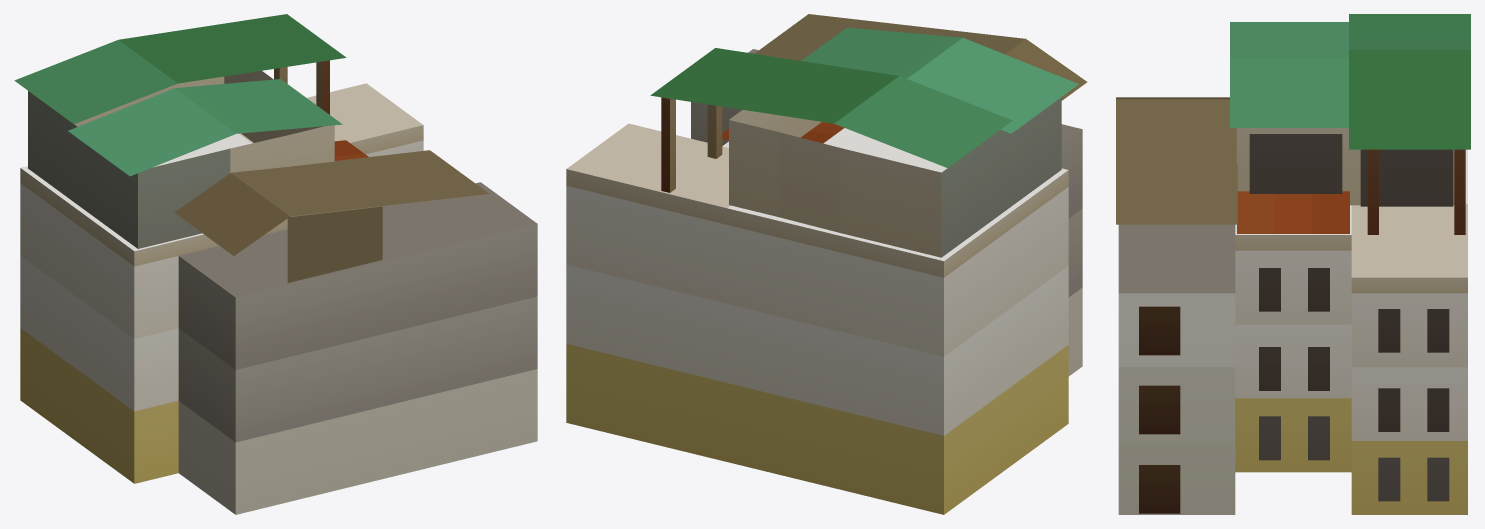
The model's file is SM_City_Building_06.fbx.
The picture shows the model from 3 angles, left to right: view 1: azimuth 30°, elevation 25°; view 2: azimuth 150°, elevation 25°; view 3: azimuth 270°, elevation 25°; orthographic projection. The views are drawn at different scales.
Visible parts, largest first — view 1: SM_City_Building_06; view 2: SM_City_Building_06; view 3: SM_City_Building_06.
Boxes of the visible parts, x1,y1,x2,y2 form: SM_City_Building_06: (14, 14, 537, 514); SM_City_Building_06: (566, 14, 1087, 514); SM_City_Building_06: (1116, 14, 1470, 514).
Size of the model in its own units: 3.58 by 3.24 by 3.05.
